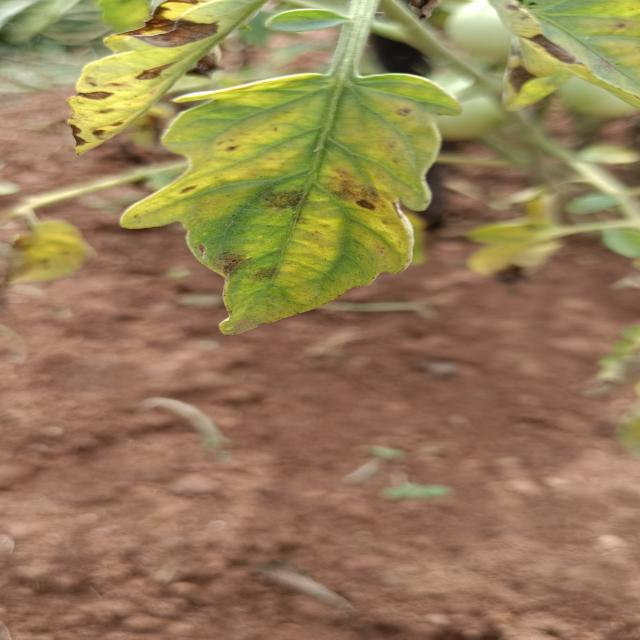tomato_early blight: (130, 63, 448, 339), (66, 0, 283, 157), (485, 0, 640, 117), (474, 180, 596, 282), (0, 218, 105, 283)
